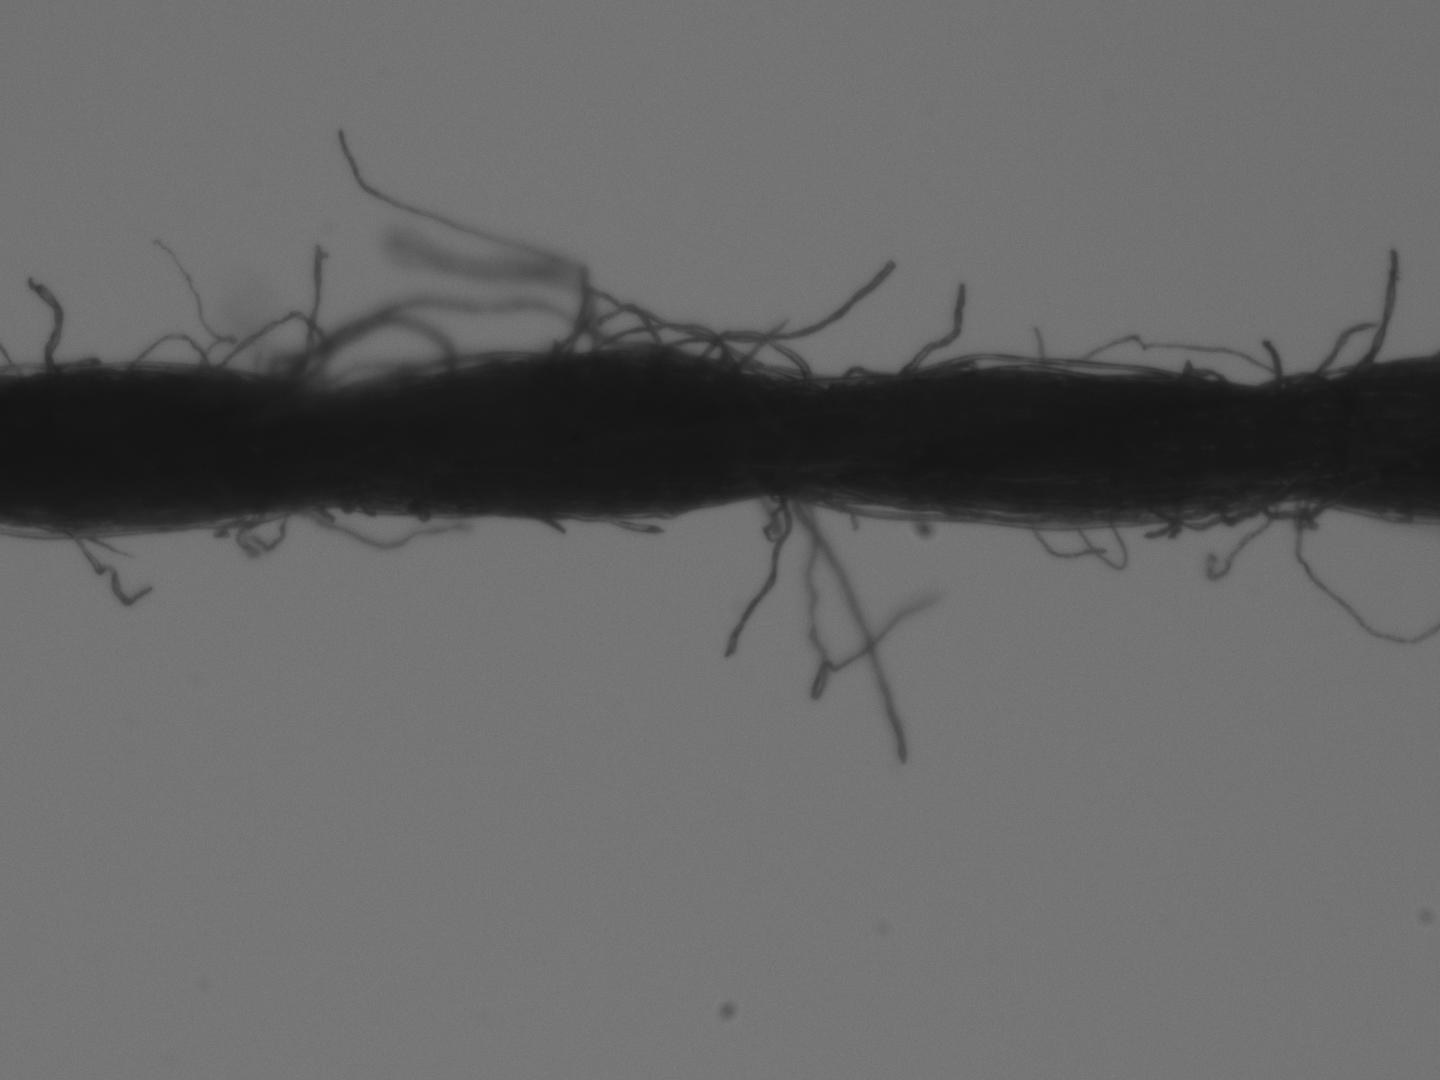loop_fiber: (304, 317, 447, 382), (213, 309, 325, 383), (554, 302, 657, 358), (933, 351, 1172, 374), (822, 493, 999, 525), (603, 319, 725, 363), (706, 330, 808, 378), (116, 334, 210, 371), (1144, 500, 1235, 529), (1255, 489, 1323, 523), (1215, 493, 1270, 529), (1179, 363, 1227, 381)
protruding_fiber: (782, 495, 905, 761), (661, 259, 895, 353), (723, 486, 790, 666), (58, 524, 154, 607), (901, 281, 965, 381), (1353, 245, 1399, 370), (296, 247, 331, 389), (29, 273, 60, 374), (1261, 339, 1282, 380)
